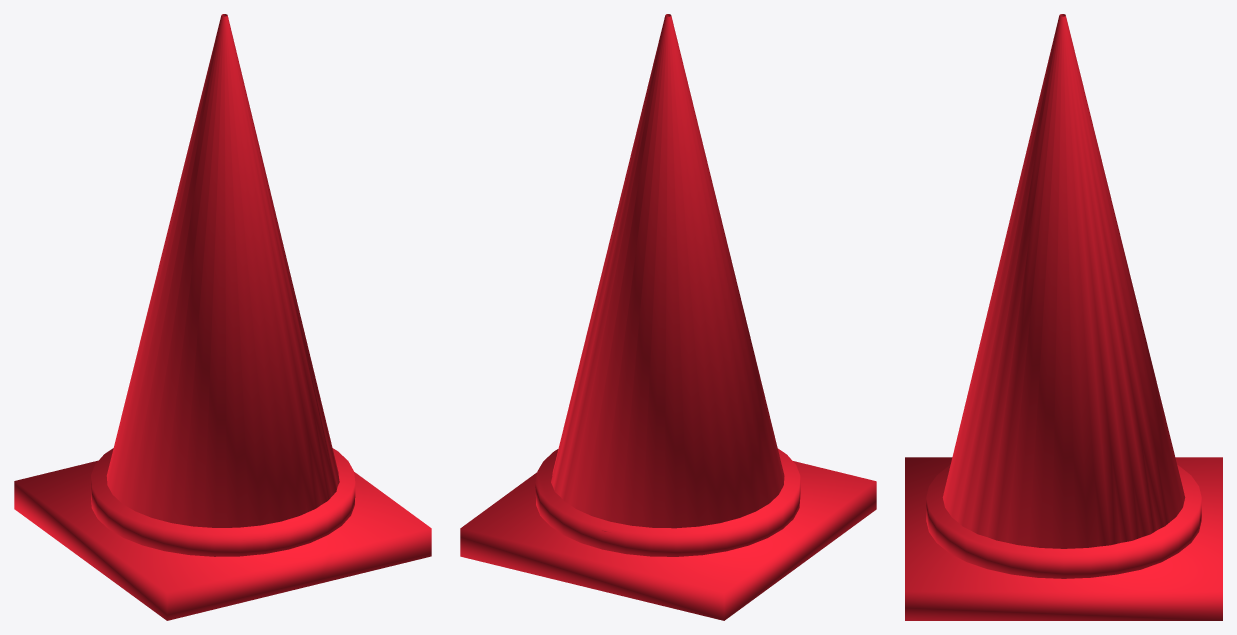
Rendered from colorCorn.obj.
The picture shows the model from 3 angles, left to right: view 1: azimuth 30°, elevation 25°; view 2: azimuth 150°, elevation 25°; view 3: azimuth 270°, elevation 25°; orthographic projection. The views are drawn at different scales.
Visible parts, largest first — view 1: 立方体; view 2: 立方体; view 3: 立方体.
Boxes of the visible parts, x1,y1,x2,y2 form: 立方体: (14,14,431,620); 立方体: (460,14,876,620); 立方体: (905,14,1222,620).
Bounding box in the file's own units: 1.21 × 2.27 × 1.21.
1 material, 1 textured.
